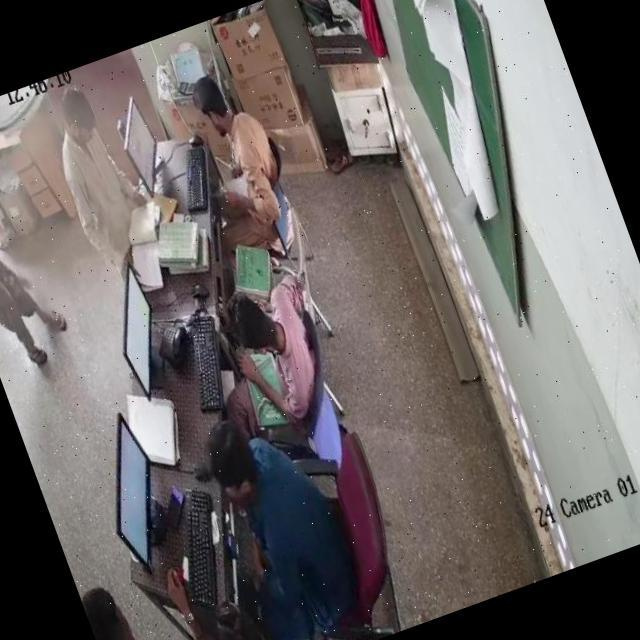person: (207, 402, 359, 638), (40, 86, 155, 296), (185, 70, 298, 235), (210, 284, 334, 430), (0, 166, 54, 381), (78, 569, 194, 640), (176, 580, 288, 640)
